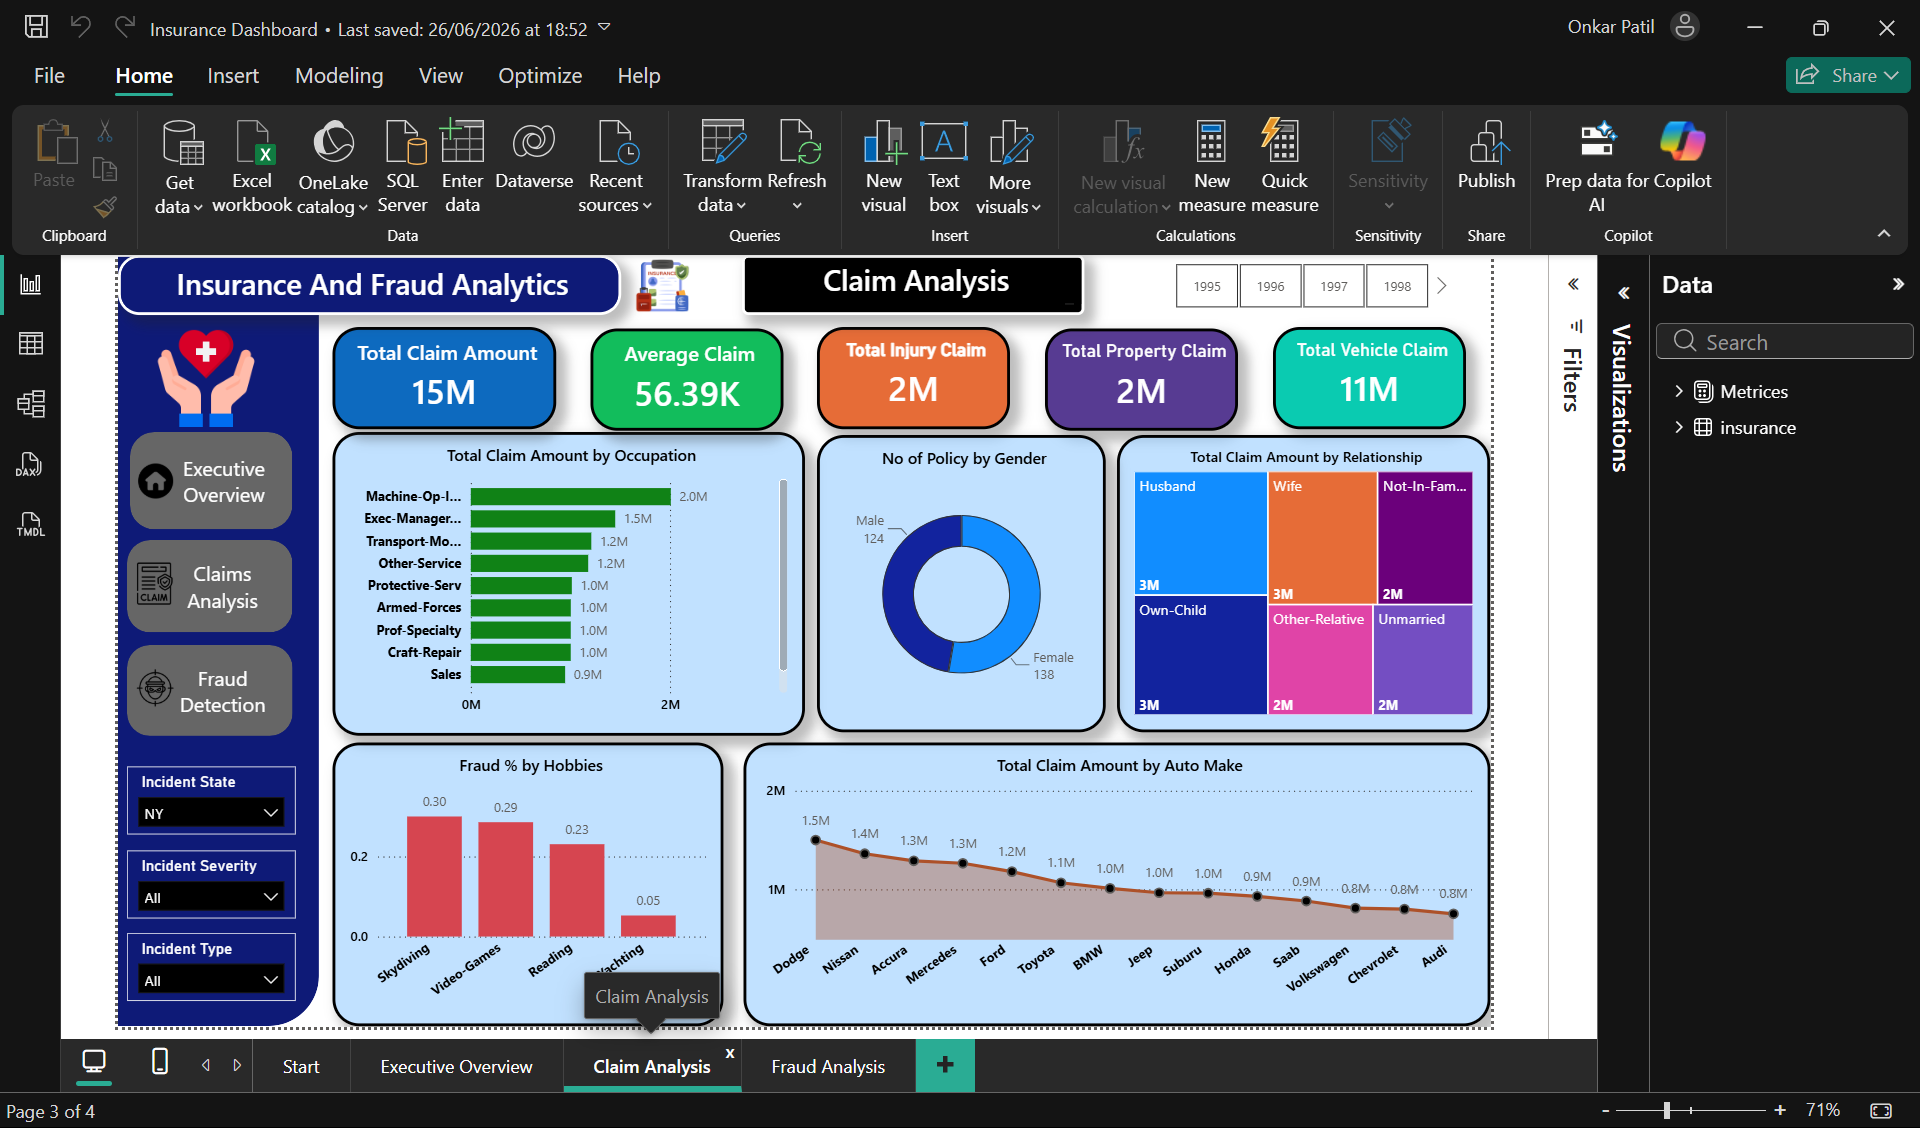

Layout of this report page (visuals, bound fields, positions):
{"tool":"powerbi","page":{"name":"Claim Analysis","canvas":[1280,720],"ordinal":2},"visuals":[{"type":"card","title":"Total Injury Claim","fields":{"Values":["Metrices.Total Injury Claim"]},"box":[652.6,66.6,180.2,95.4],"z":0},{"type":"card","title":"Total Property Claim","fields":{"Values":["Metrices.Total Property Claim"]},"box":[864.6,68.1,180.2,95.4],"z":1000},{"type":"card","title":"Total Vehicle Claim","fields":{"Values":["Metrices.Total Vehicle Claim"]},"box":[1076.6,66.6,180.2,95.4],"z":2000},{"type":"barChart","title":"Total Claim Amount by Occupation","fields":{"Y":["Metrices.Total Claim Amount"],"Category":["insurance.insured_occupation"]},"box":[199.9,165,440.6,283.2],"z":3000},{"type":"treemap","title":"Total Claim Amount by Relationship","fields":{"Group":["insurance.insured_relationship"],"Values":["Metrices.Total Claim Amount"]},"box":[931.2,168.1,348.3,277.1],"z":4000},{"type":"clusteredColumnChart","title":"Fraud % by Hobbies","fields":{"Category":["insurance.insured_hobbies"],"Y":["Metrices.Fraud %"]},"box":[199.9,454.3,364.9,265],"z":5000},{"type":"donutChart","title":"No of Policy by Gender","fields":{"Category":["insurance.insured_sex"],"Y":["Count(insurance.policy_number)"]},"box":[652.6,168.1,269.5,277.1],"z":6000},{"type":"lineChart","title":"Total Claim Amount by Auto Make","fields":{"Y":["Metrices.Total Claim Amount"],"Category":["insurance.auto_make"]},"box":[583,454.3,696.5,265],"z":7000},{"type":"shape","box":[0,1.4,187.5,717.7],"z":8000},{"type":"shape","box":[10.6,165,151.4,90.9],"z":9000},{"type":"shape","box":[8.9,266.1,154.3,86.2],"z":10000},{"type":"shape","box":[9.1,363.4,154.4,84.8],"z":11000},{"type":"card","title":"Average Claim","fields":{"Values":["Metrices.Average Claim"]},"box":[440.6,68.1,180.2,95.4],"z":12000},{"type":"card","title":"Total Claim Amount","fields":{"Values":["Metrices.Total Claim Amount"]},"box":[199.9,66.6,209,95.4],"z":13000},{"type":"textbox","title":"Insurance And Fraud Analytics","box":[0,0,469.4,56],"z":14000},{"type":"textbox","title":"Claim Analysis","box":[581.5,0,319.5,56],"z":15000},{"type":"slicer","fields":{"Values":["insurance.auto_year"]},"box":[961.5,1.5,284.7,54.5],"z":16000},{"type":"slicer","fields":{"Values":["insurance.incident_state"]},"box":[9.1,477,157.5,63.6],"z":17000},{"type":"slicer","fields":{"Values":["insurance.incident_severity"]},"box":[9.1,555.7,157.5,63.6],"z":18000},{"type":"slicer","fields":{"Values":["insurance.incident_severity","insurance.incident_type"]},"box":[9.1,632.9,157.5,63.6],"z":19000},{"type":"image","box":[16.1,194,36.8,32.8],"z":20000},{"type":"image","box":[14.1,286.8,40.8,39.7],"z":21000},{"type":"image","box":[14.9,377.3,38.8,52.3],"z":22000},{"type":"image","box":[472.4,2.9,69.5,51.4],"z":23000},{"type":"image","box":[31.8,51.5,99.9,127.2],"z":24000}]}

Visuals, with their boxes on the page's 1280x720 design canvas (x1, y1, x2, y2). These are canvas units, not pixel positions in the 1920x1128 screenshot, which may show the page scaled, cropped or inside an application window:
"Total Injury Claim" card: <box>653,67,833,162</box>
"Total Property Claim" card: <box>865,68,1045,164</box>
"Total Vehicle Claim" card: <box>1077,67,1257,162</box>
"Total Claim Amount by Occupation" barChart: <box>200,165,640,448</box>
"Total Claim Amount by Relationship" treemap: <box>931,168,1280,445</box>
"Fraud % by Hobbies" clusteredColumnChart: <box>200,454,565,719</box>
"No of Policy by Gender" donutChart: <box>653,168,922,445</box>
"Total Claim Amount by Auto Make" lineChart: <box>583,454,1280,719</box>
shape: <box>0,1,188,719</box>
shape: <box>11,165,162,256</box>
shape: <box>9,266,163,352</box>
shape: <box>9,363,164,448</box>
"Average Claim" card: <box>441,68,621,164</box>
"Total Claim Amount" card: <box>200,67,409,162</box>
"Insurance And Fraud Analytics" textbox: <box>0,0,469,56</box>
"Claim Analysis" textbox: <box>582,0,901,56</box>
slicer - insurance.auto_year: <box>962,2,1246,56</box>
slicer - insurance.incident_state: <box>9,477,167,541</box>
slicer - insurance.incident_severity: <box>9,556,167,619</box>
slicer - insurance.incident_severity x insurance.incident_type: <box>9,633,167,696</box>
image: <box>16,194,53,227</box>
image: <box>14,287,55,326</box>
image: <box>15,377,54,430</box>
image: <box>472,3,542,54</box>
image: <box>32,52,132,179</box>
